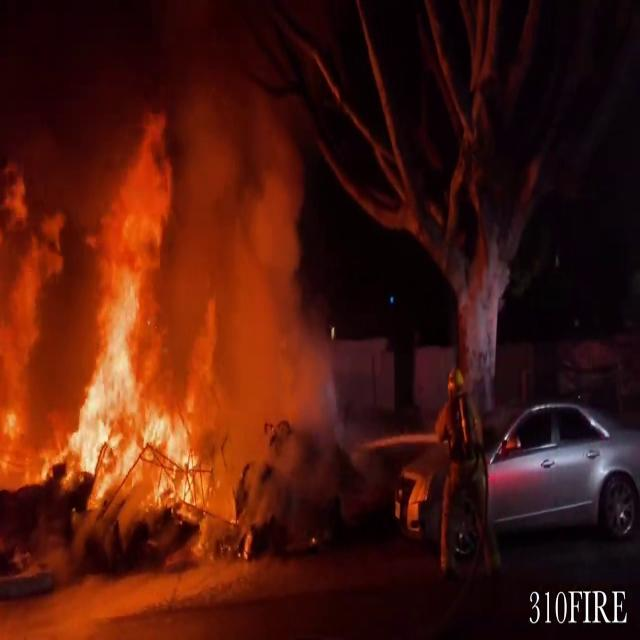Fire: (0, 142, 239, 518)
